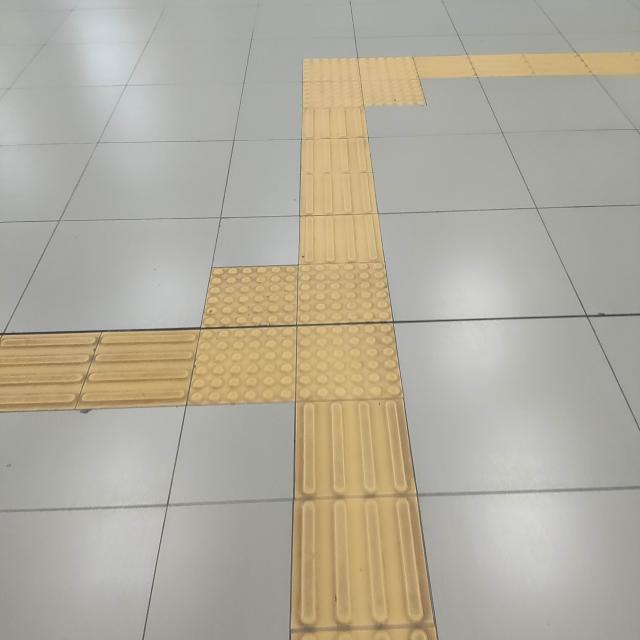kanan: (269, 39, 503, 123)
